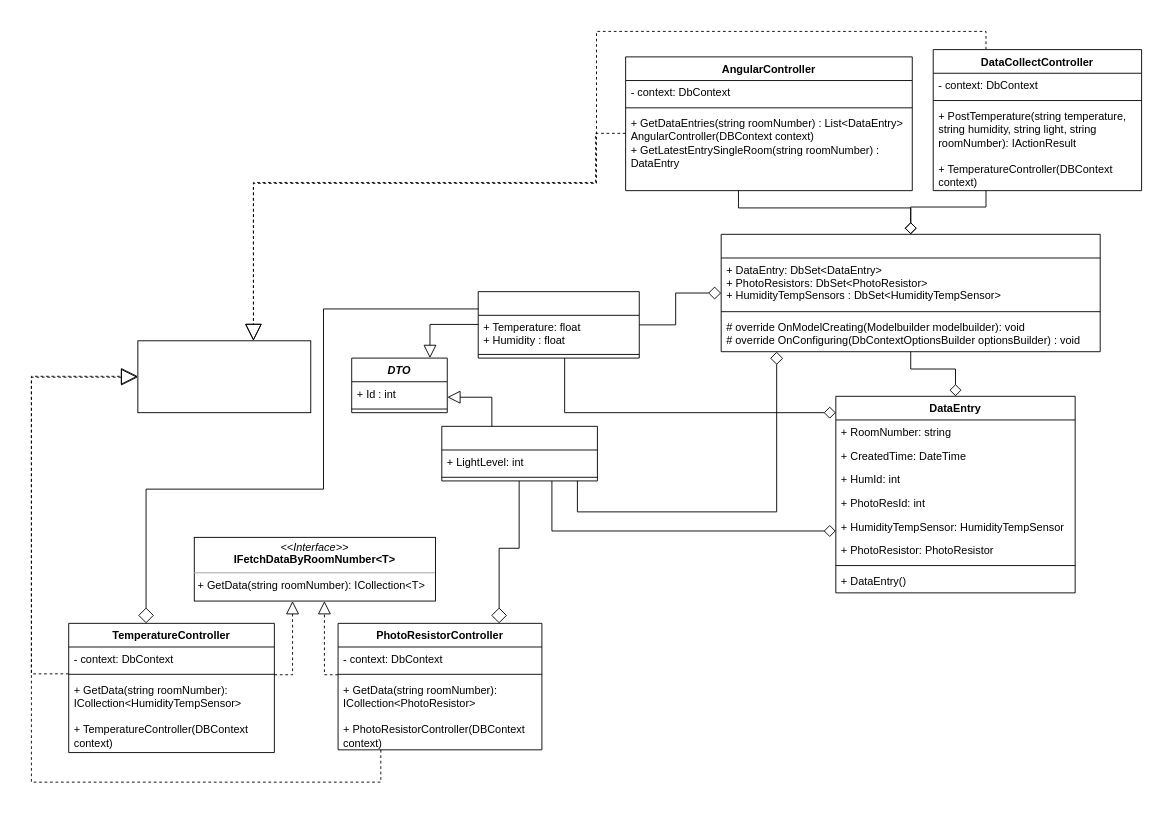
This 1158x814 diagram has some shape labels left out. The box of each missing label's shape, as (x1, y1, x2, y2) in pixels:
<<Interface>> IHaveDbContextData + context: DbContext: (137, 340, 311, 413)
HumidityTempSensor: (477, 291, 639, 358)
PhotoResistor: (441, 425, 597, 481)
SchoolDataContext: (720, 233, 1100, 352)
